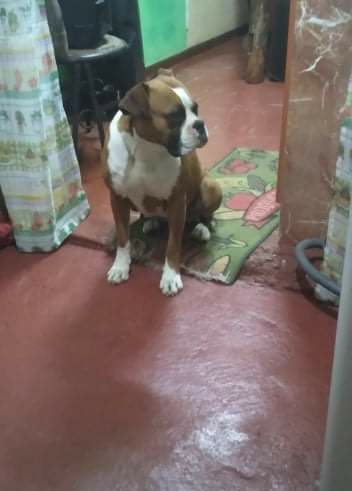dog: (84, 59, 221, 317)
